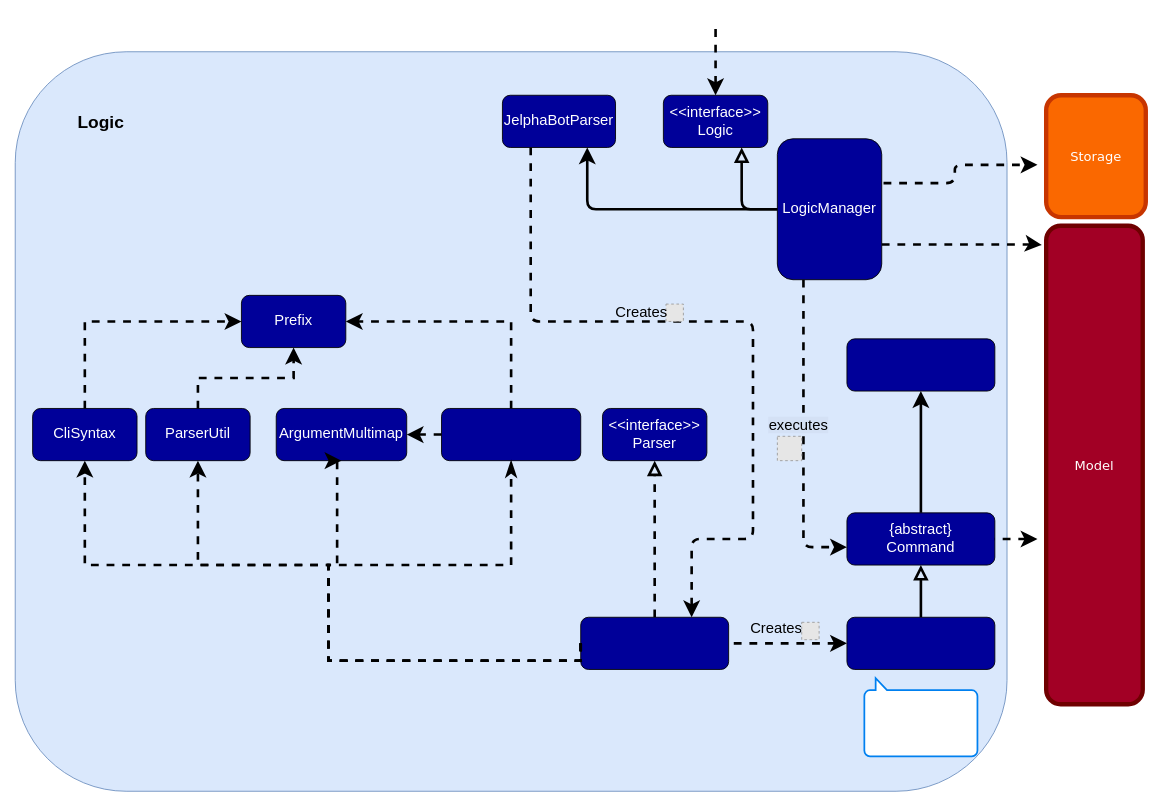
Some shapes in this 1163 by 806 pixel diagram are drawn without their labels. Grey dashed boxes stand in for pictures. The centre of each missing label's shape, as x and y in pixels:
ArgumentTokenizer: pixel 511 434
CommandResult: pixel 920 364
Refers to instances of Command such as AddCommand, FindCommand, etc...: pixel 920 717
XYZCommand: pixel 920 642
XYZCommandParser: pixel 654 642
